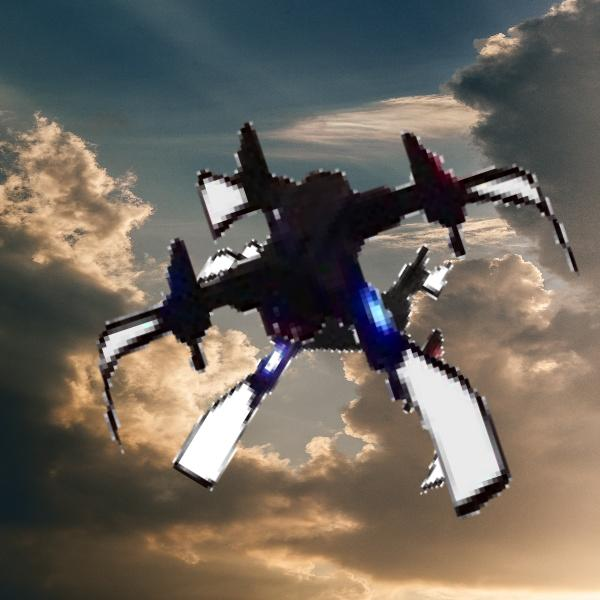drone: (75, 81, 590, 596), (164, 197, 505, 538)
